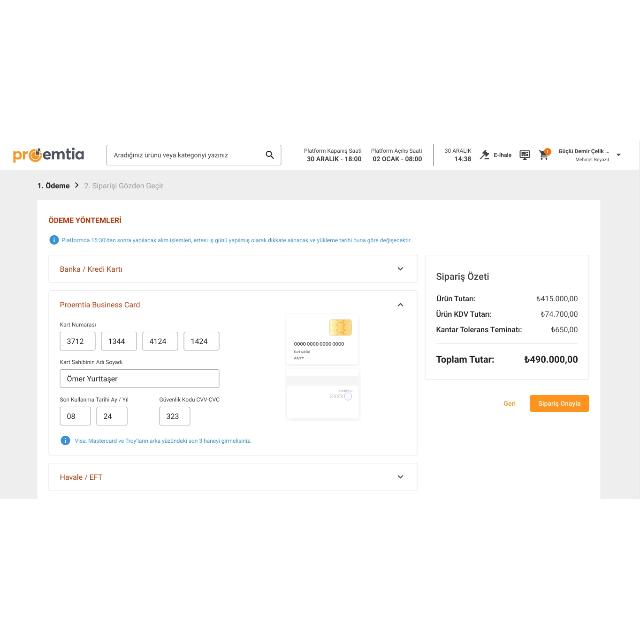QLabel: (61, 238, 412, 245), (74, 438, 252, 446), (46, 214, 124, 226), (435, 326, 523, 336), (432, 270, 492, 284), (436, 354, 496, 366), (522, 354, 580, 366), (58, 300, 142, 308), (434, 310, 494, 320), (57, 396, 129, 404), (59, 266, 123, 274), (159, 396, 221, 404), (58, 359, 124, 366), (433, 294, 477, 304), (534, 400, 584, 408), (58, 473, 102, 482), (534, 295, 580, 303), (302, 148, 362, 154), (304, 156, 362, 162), (539, 310, 581, 318), (558, 148, 612, 154), (371, 148, 424, 154), (59, 320, 97, 328), (372, 156, 422, 162), (436, 343, 578, 345), (442, 146, 472, 154), (574, 157, 612, 163), (550, 326, 578, 334), (502, 400, 518, 408), (452, 156, 472, 162), (493, 152, 513, 158)
VAppBar: (0, 141, 640, 169)
VBadge: (537, 148, 553, 162)
VBreadcrumbs: (32, 180, 166, 192)
VBtn: (530, 396, 590, 412)
VCard: (37, 199, 600, 499), (424, 255, 590, 381)
VDivider: (432, 143, 434, 167)
VExpansionPanel: (49, 290, 418, 456), (48, 254, 418, 284), (49, 463, 418, 492)
VIcon: (48, 234, 60, 246), (518, 150, 532, 160), (480, 149, 490, 161), (60, 436, 70, 446), (614, 152, 622, 158)
VImg: (285, 313, 359, 422), (8, 148, 86, 164)
VTextField: (105, 144, 282, 166), (60, 369, 220, 388), (59, 331, 96, 351), (101, 331, 137, 351), (183, 331, 219, 351), (142, 332, 178, 351), (96, 408, 128, 427), (60, 408, 90, 427), (160, 408, 190, 427)
